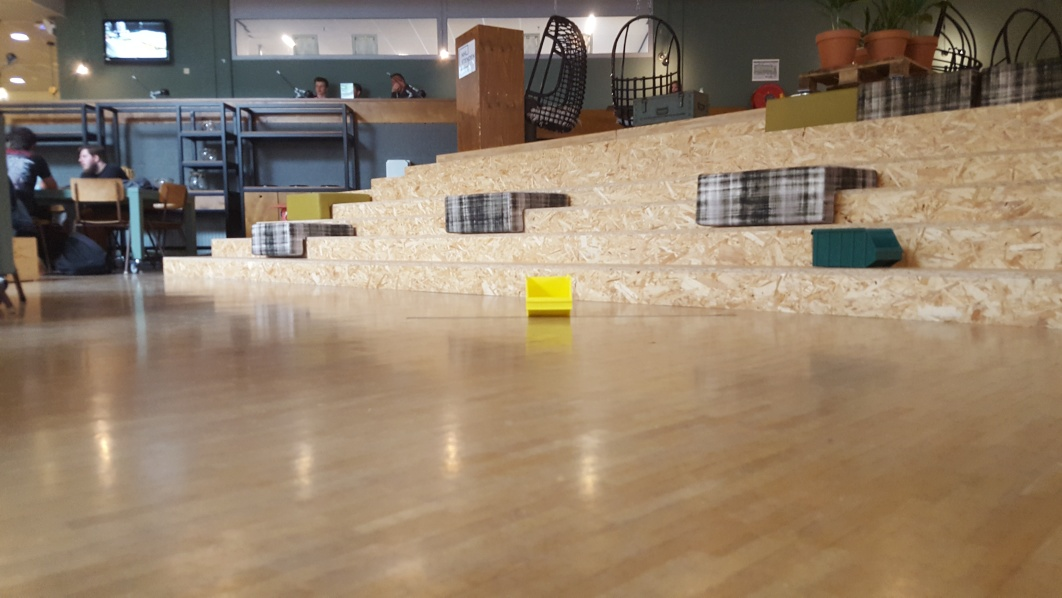tray: (803, 224, 903, 268), (520, 272, 578, 318)
